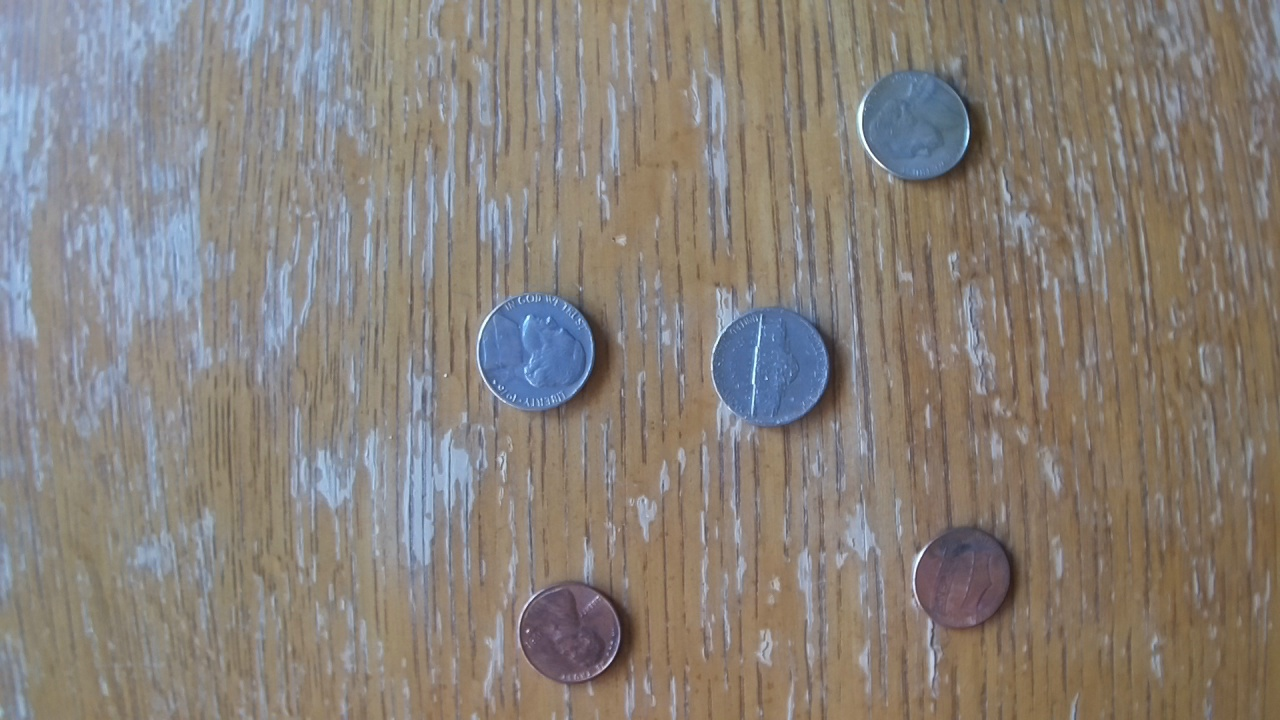nickel: (706, 306, 838, 430), (474, 290, 602, 416), (850, 66, 982, 188)
penny: (512, 580, 628, 686), (908, 525, 1020, 631)
